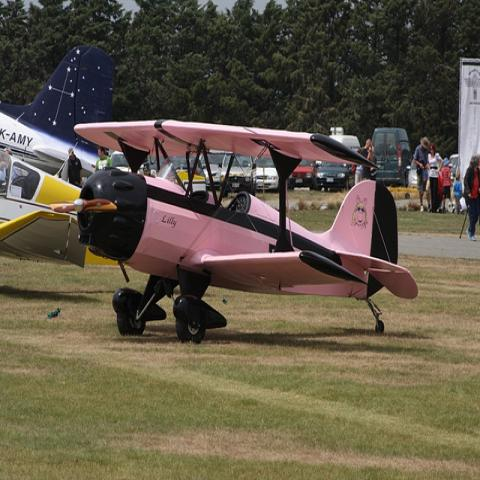car: (290, 155, 346, 192), (220, 152, 246, 198), (196, 150, 224, 190), (255, 156, 280, 192), (288, 160, 315, 193)
truck: (371, 128, 414, 187)
